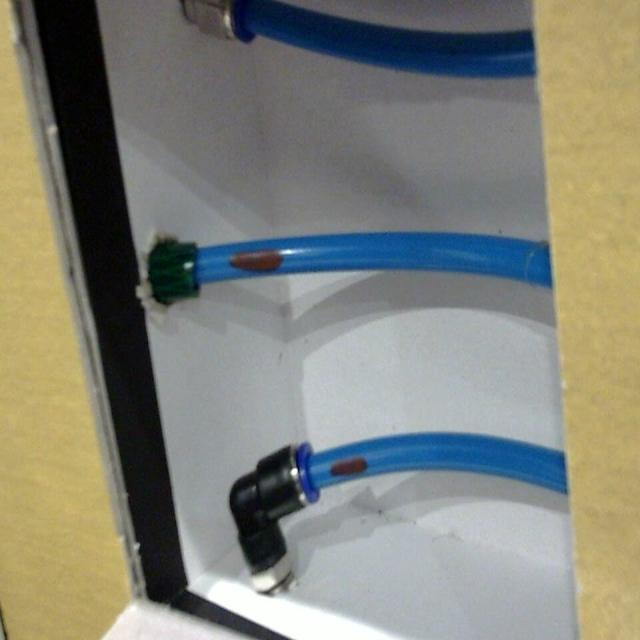hose_damage: (225, 242, 282, 276), (327, 455, 367, 479)
